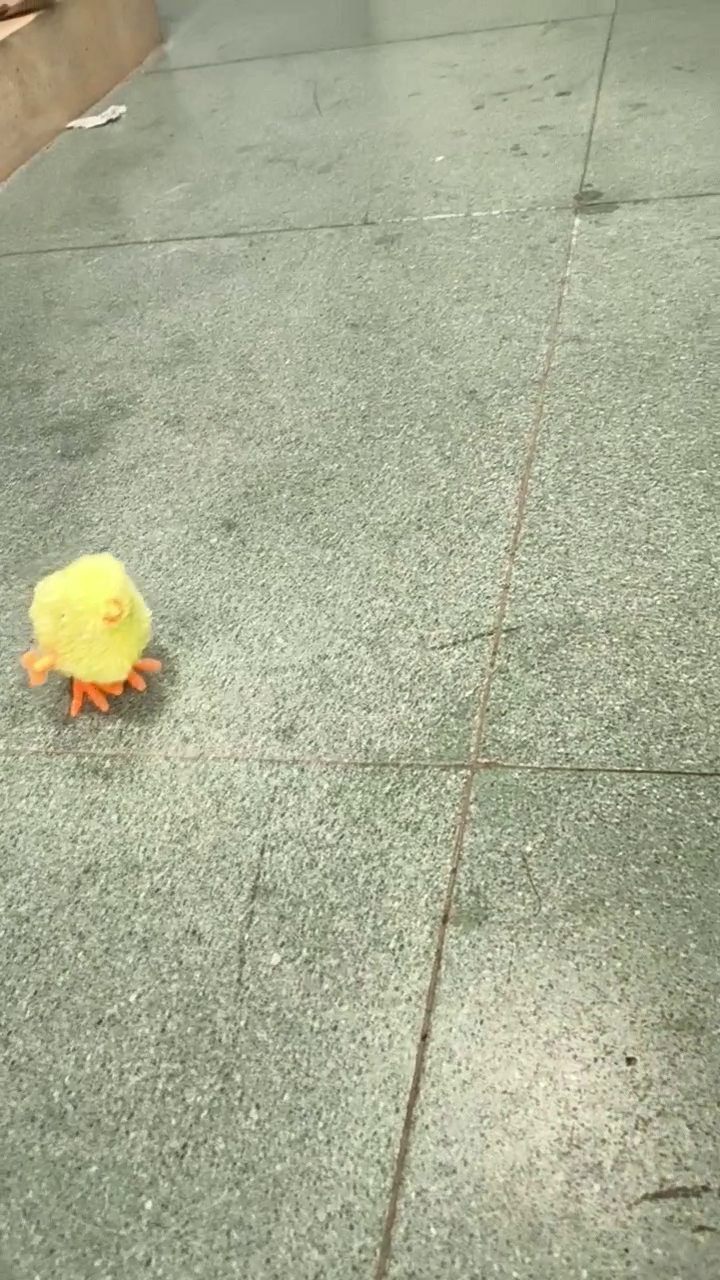yellow chicken: (19, 545, 167, 721)
